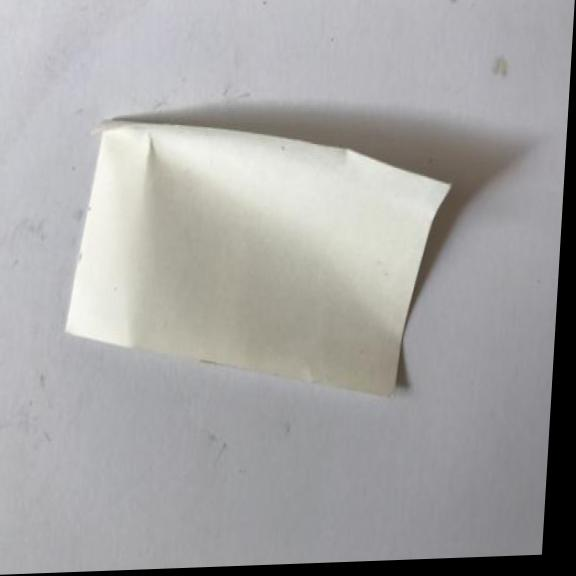Kertas: (54, 93, 475, 426)
